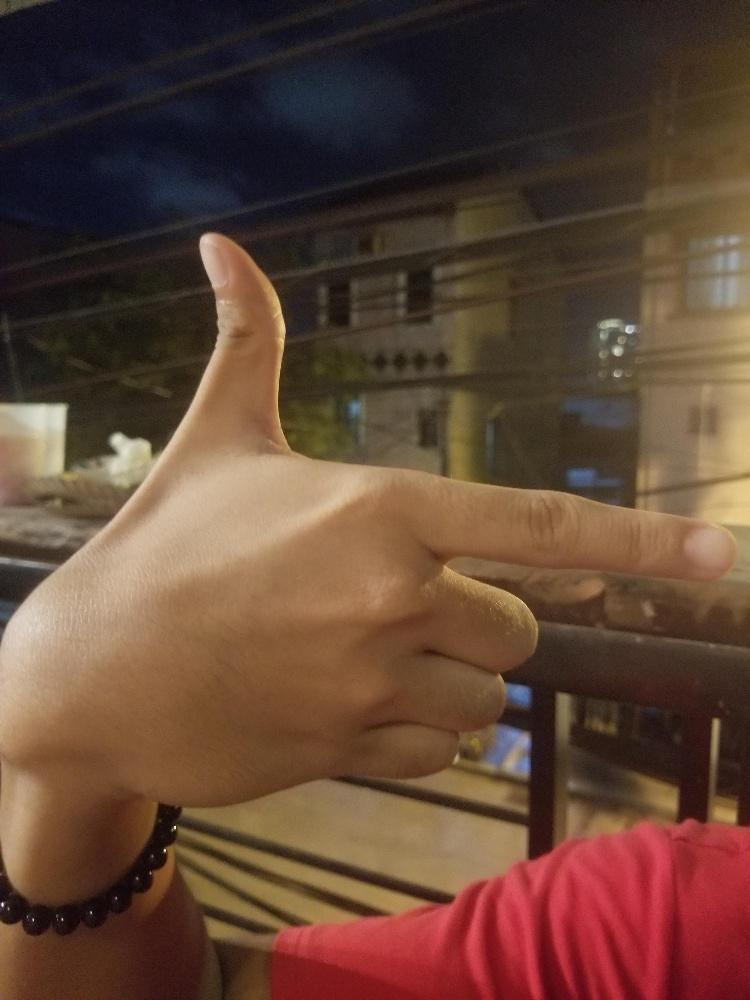g: (99, 231, 736, 809)
